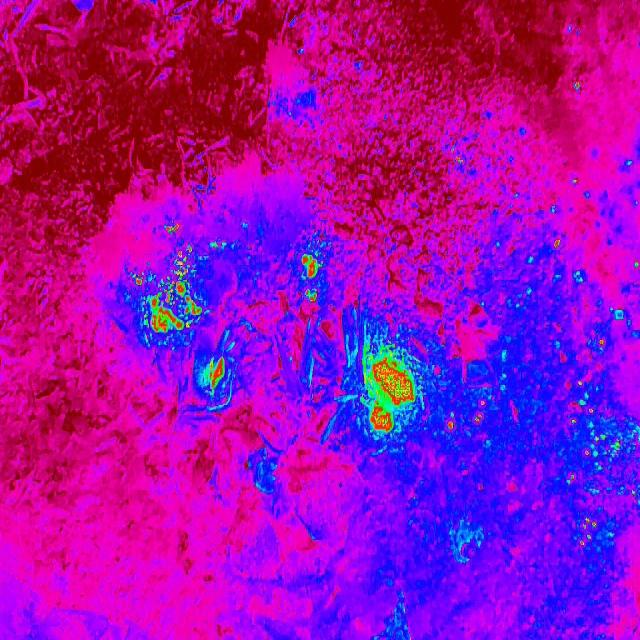fire: (536, 233, 640, 559), (130, 246, 205, 343), (356, 342, 419, 441), (243, 443, 290, 495), (198, 351, 228, 397), (297, 249, 319, 303), (160, 217, 185, 238), (568, 174, 580, 188), (473, 413, 483, 425), (446, 420, 456, 430)
